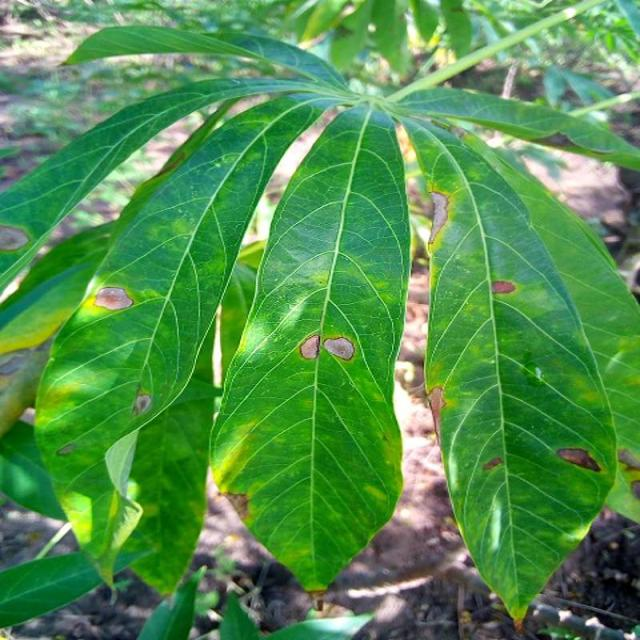cassava leaf: (32, 93, 329, 600), (402, 111, 638, 626), (208, 99, 411, 593)
